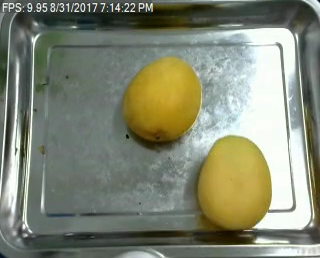Mango: (119, 55, 203, 146), (196, 133, 274, 231)
